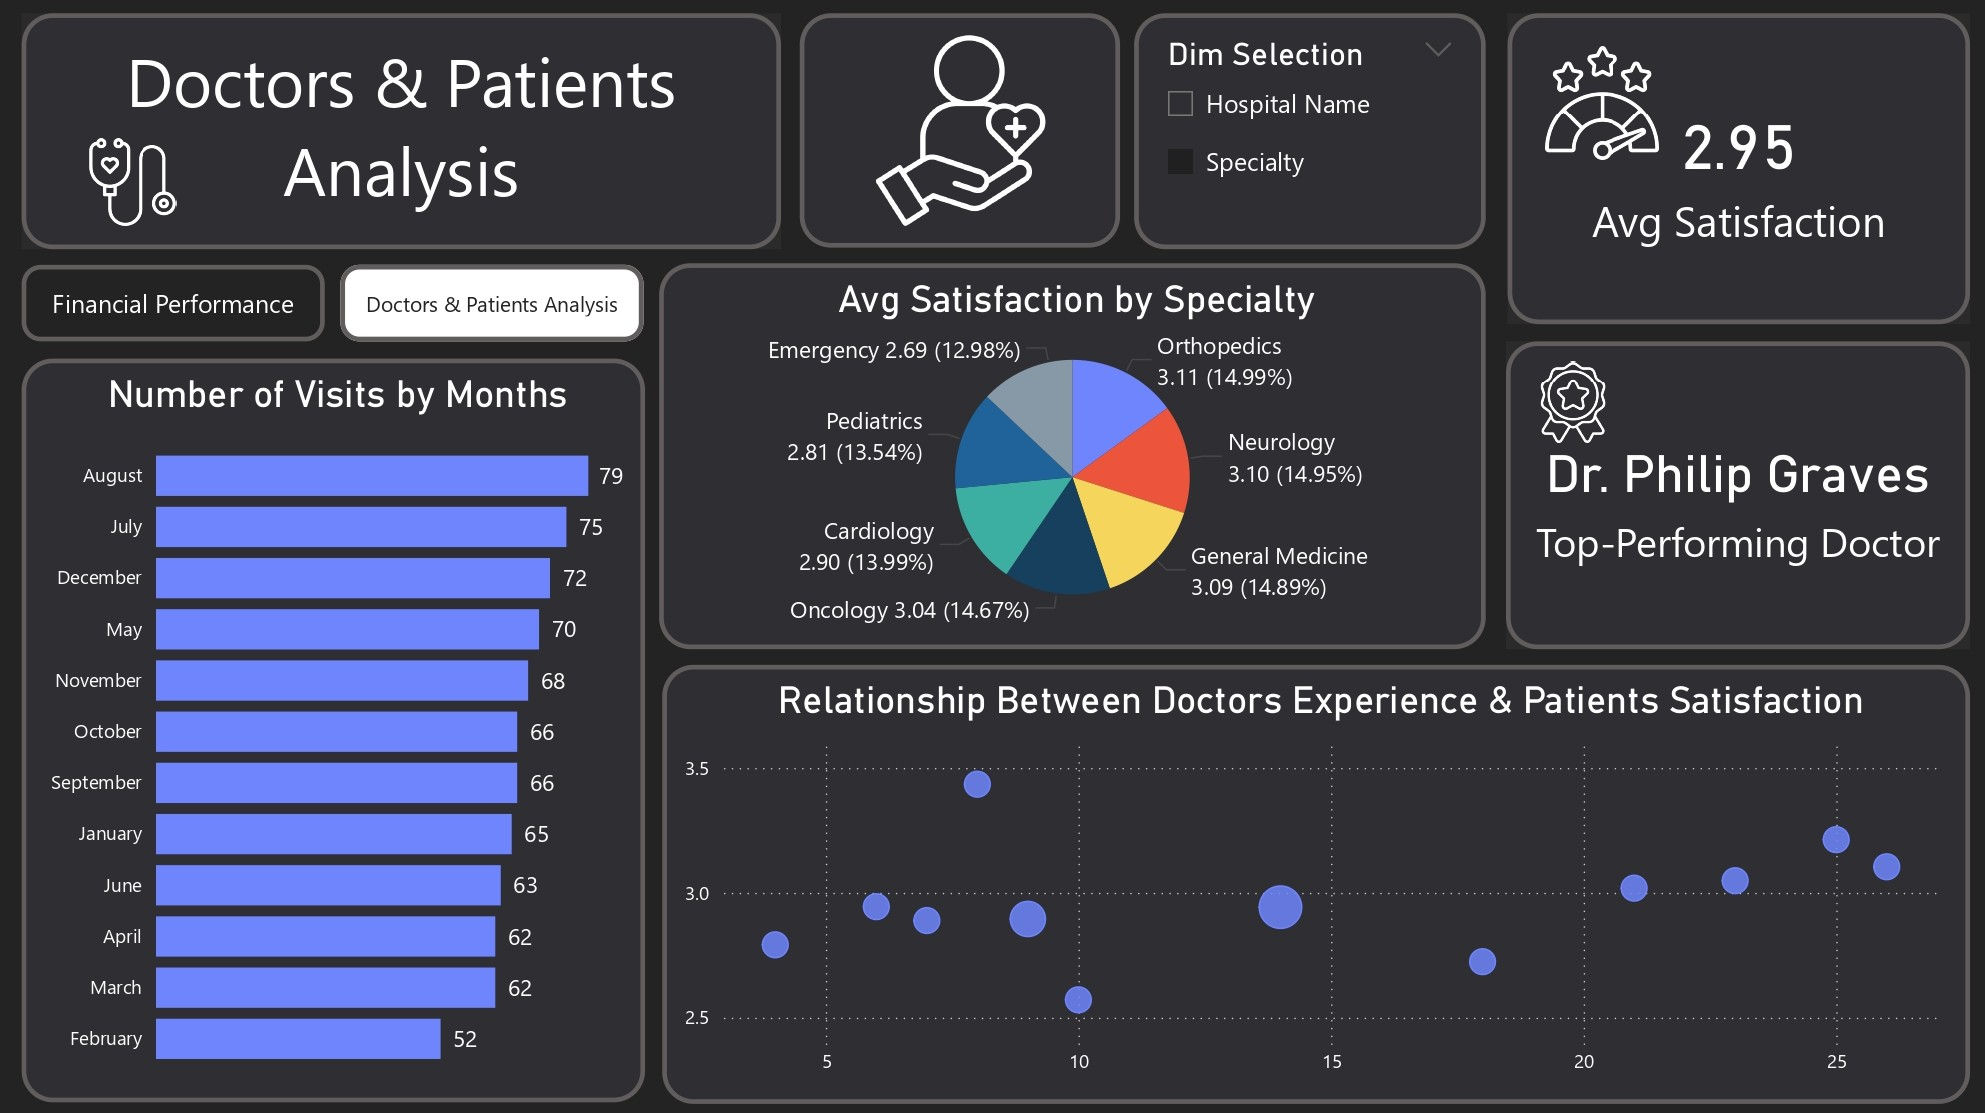

The page's visual inventory and layout, read from the dashboard file:
{"tool":"powerbi","page":{"name":"Doctors & Patients Analysis","canvas":[1280,720],"ordinal":1},"visuals":[{"type":"textbox","box":[17.8,12.3,485.8,150.9],"z":0,"group":"g2"},{"type":"image","box":[513.2,12.3,207.2,150.9],"z":0},{"type":"card","fields":{"Values":["Measures Table.Avg Satisfaction"]},"box":[968.8,12.3,296.4,199],"z":0,"group":"g3"},{"type":"card","fields":{"Values":["Measures Table.Avg length of Stay"]},"box":[968.8,220.9,296.4,197.6],"z":0,"group":"g1"},{"type":"image","box":[979.8,28.2,98.8,83.6],"z":1000,"group":"g3"},{"type":"image","box":[45.2,87.8,87.8,65.9],"z":1000,"group":"g2"},{"type":"image","box":[979.8,233.8,98.8,86.5],"z":1000,"group":"g1"},{"type":"columnChart","title":"Avg length of Stay by Hospitals","fields":{"Category":["Hospitals.HospitalName"],"Y":["Measures Table.Avg length of Stay"]},"box":[426.1,427.8,427.8,281.9],"z":1000},{"type":"barChart","title":"Number of Visits by Months","fields":{"Category":["Date.Month Name"],"Y":["Measures Table.Number of Visits"]},"box":[17.8,233.3,399.3,476.2],"z":2000},{"type":"pageNavigator","box":[17.8,172.9,399.3,49.4],"z":3000},{"type":"donutChart","fields":{"Category":["Patients.InsuranceType"],"Y":["Measures Table.Number of Patients"]},"box":[865.9,428.1,399.3,281.3],"z":4000},{"type":"slicer","fields":{"Values":["Dim Selection.Dim Selection"]},"box":[730,12.3,225,150.9],"z":5000},{"type":"pieChart","fields":{"Category":["Hospitals.Hospital Name"],"Y":["Measures Table.Avg Satisfaction"]},"box":[426.1,172.4,528.9,247],"z":6000},{"type":"group","id":"g1","title":"Group 3","box":[968.8,220.9,296.4,197.6],"z":7000},{"type":"group","id":"g2","title":"Group 2","box":[17.8,12.3,485.8,150.9],"z":8000},{"type":"group","id":"g3","title":"Group 1","box":[968.8,12.3,296.4,199],"z":11000}]}

Visuals, with their boxes in screenshot pixels (x1, y1, x2, y2), scaled from the page's 1280x720 canvas onto the 1985x1113 screenshot:
textbox: <box>28,19,781,252</box>
image: <box>796,19,1117,252</box>
card - Measures Table.Avg Satisfaction: <box>1502,19,1962,327</box>
card - Measures Table.Avg length of Stay: <box>1502,341,1962,647</box>
image: <box>1519,44,1673,173</box>
image: <box>70,136,206,238</box>
image: <box>1519,361,1673,495</box>
"Avg length of Stay by Hospitals" columnChart: <box>661,661,1324,1097</box>
"Number of Visits by Months" barChart: <box>28,361,647,1097</box>
pageNavigator: <box>28,267,647,344</box>
donutChart - Patients.InsuranceType x Measures Table.Number of Patients: <box>1343,662,1962,1097</box>
slicer - Dim Selection.Dim Selection: <box>1132,19,1481,252</box>
pieChart - Hospitals.Hospital Name x Measures Table.Avg Satisfaction: <box>661,267,1481,648</box>
"Group 3" group: <box>1502,341,1962,647</box>
"Group 2" group: <box>28,19,781,252</box>
"Group 1" group: <box>1502,19,1962,327</box>
